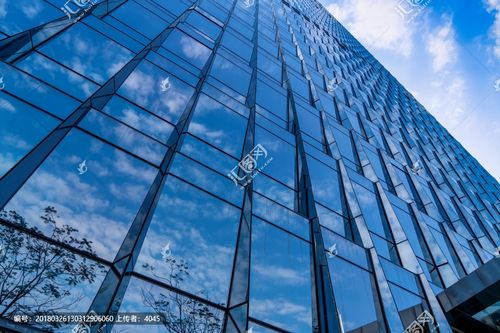buildings: (13, 37, 500, 322)
